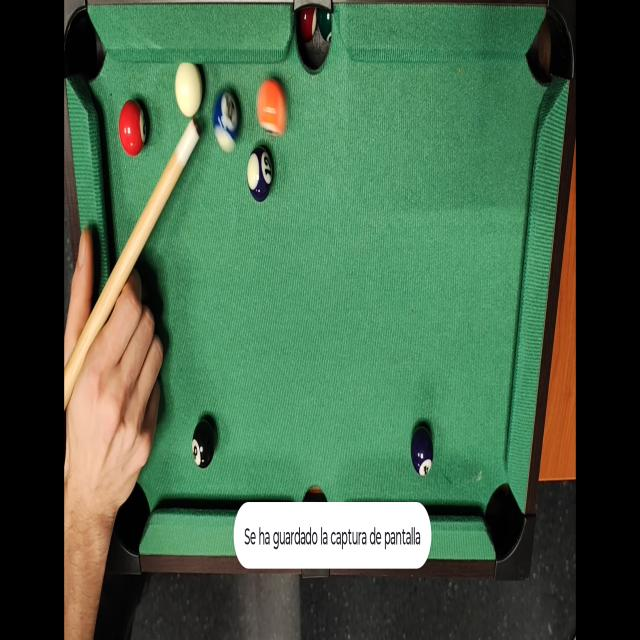cue ball: (175, 56, 203, 118)
other: (253, 76, 290, 138), (213, 87, 241, 153), (246, 144, 276, 204), (119, 96, 147, 158), (189, 418, 219, 475), (410, 420, 436, 480)
